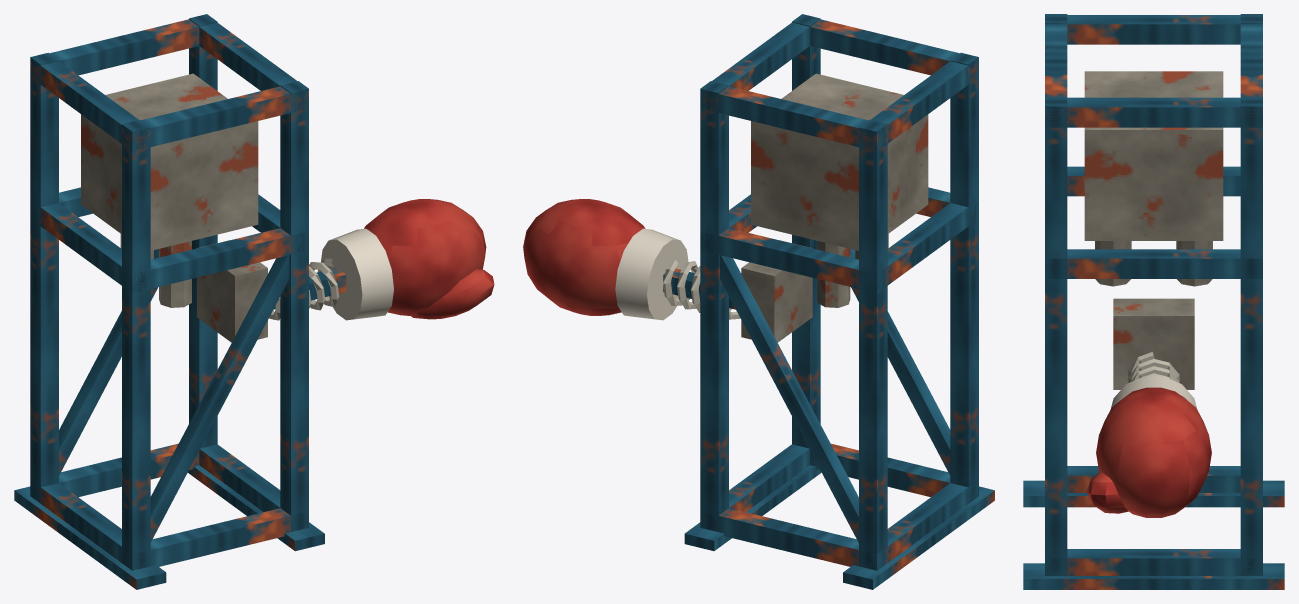
File: glove.glb
3 views of the same model, side by side, from view 1: azimuth 30°, elevation 25°; view 2: azimuth 150°, elevation 25°; view 3: azimuth 270°, elevation 25° (orthographic). The views are drawn at different scales.
Visible parts, largest first — view 1: Frame, Glove; view 2: Frame, Glove; view 3: Frame, Glove.
Part boxes in pixels (box(x1,y1,x2,y2)): Frame: box(14, 14, 324, 589); Glove: box(269, 199, 494, 320); Frame: box(684, 14, 994, 589); Glove: box(523, 199, 739, 320); Frame: box(1023, 14, 1284, 589); Glove: box(1086, 352, 1211, 517).
Bounding box in the file's own units: 1.23 × 1.3 × 0.64.
Materials: 5 (3 with a texture image).
